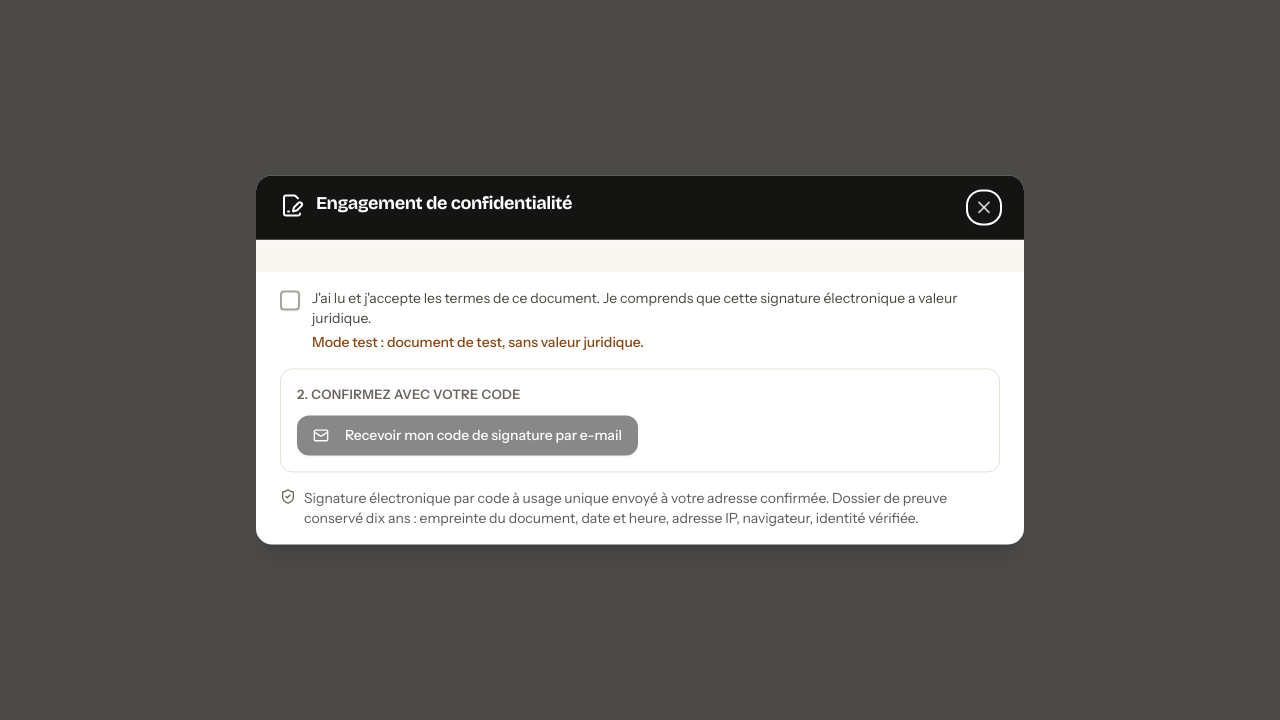
OtpSignatureDialog — code de test › sans test_code (hors mode test) : ni encadré ni bouton « Remplir »
The width and height of the screenshot is (1280, 720).
Click the checkbox with test id "otp-accept" at {"x": 290, "y": 300}, box left=280, top=290, right=300, bottom=310
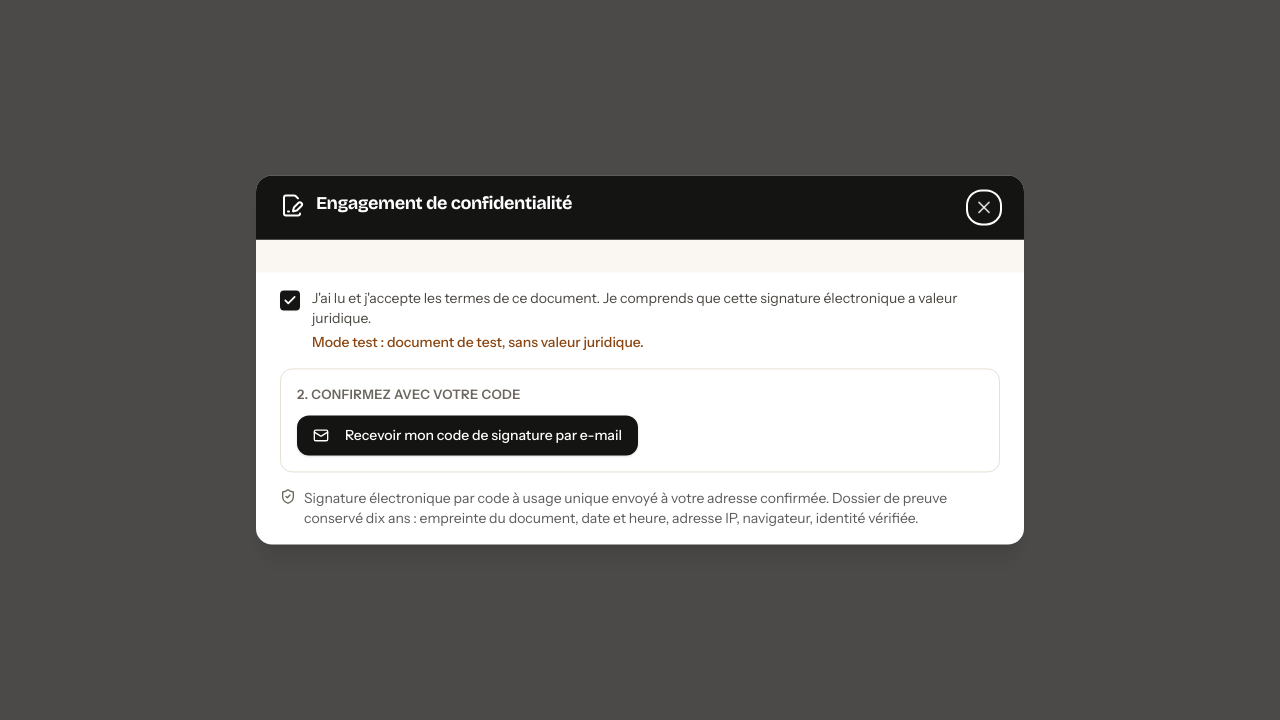
Click the button with test id "otp-request" at {"x": 467, "y": 436}, box left=297, top=416, right=638, bottom=456
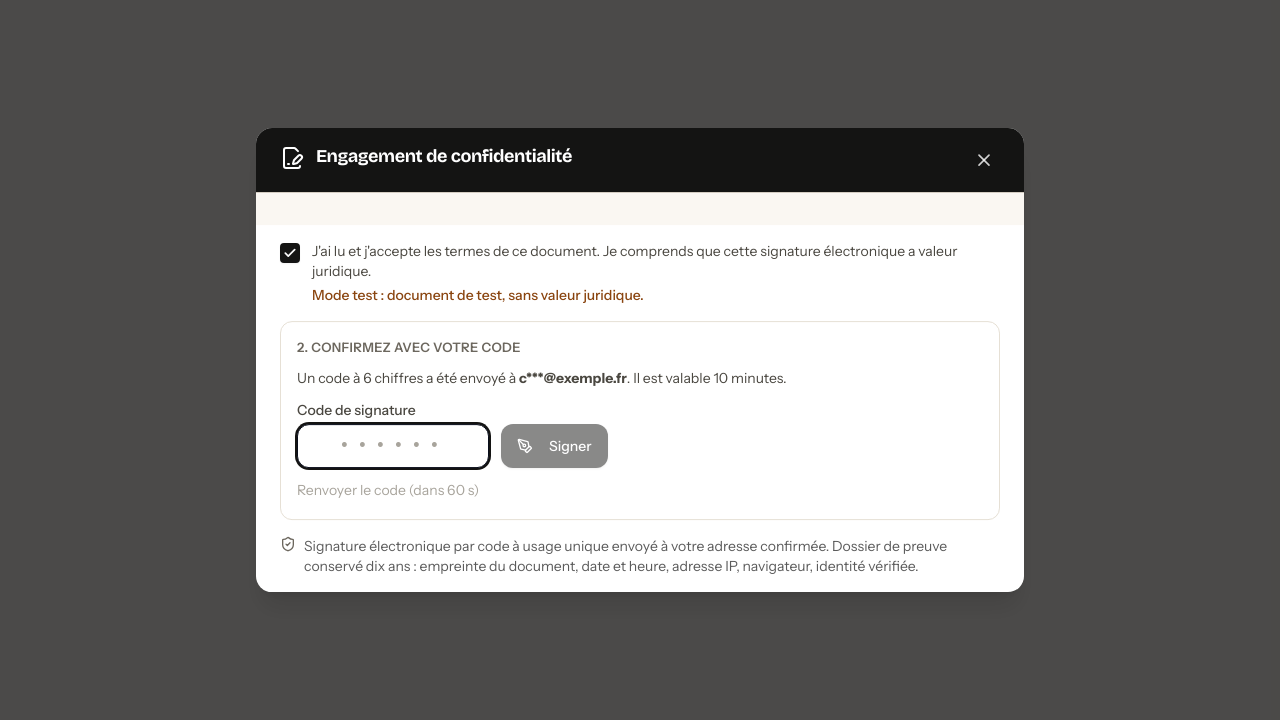
Expected: the element with test id "otp-sent" is shown, left=297, top=369, right=787, bottom=387
Expected: the field with test id "otp-code" is empty, left=297, top=424, right=489, bottom=468
